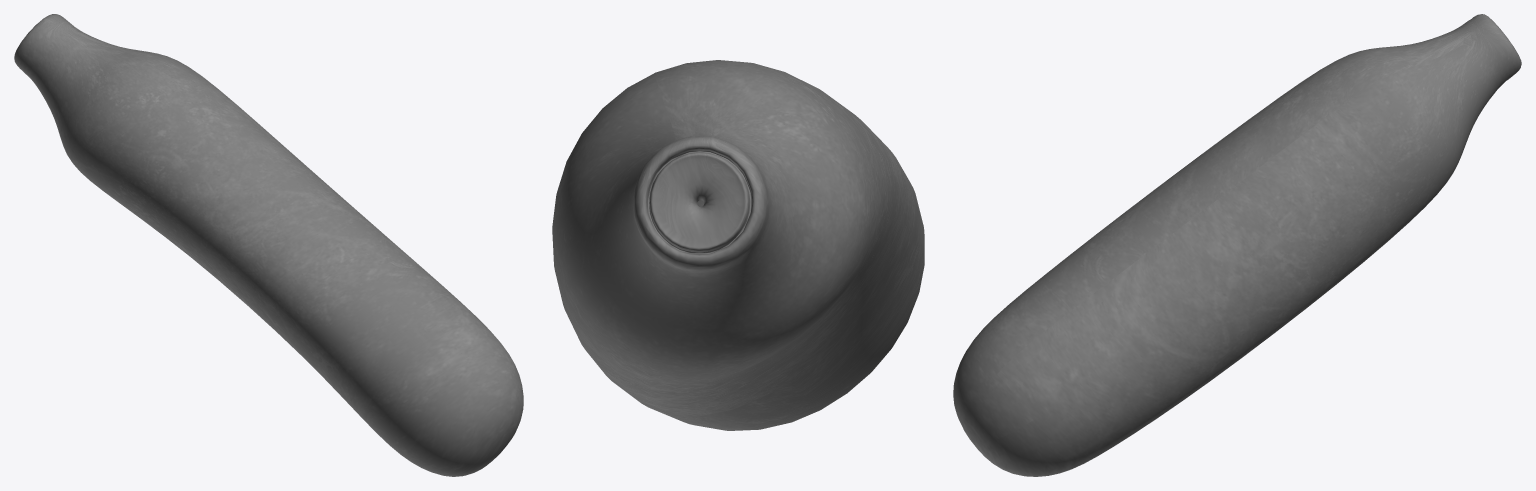
File: GAS9a.gltf
The picture shows the model from 3 angles, left to right: view 1: azimuth 30°, elevation 25°; view 2: azimuth 150°, elevation 25°; view 3: azimuth 270°, elevation 25°; orthographic projection. The views are drawn at different scales.
Visible parts, largest first — view 1: BezierCurve.003_BezierCurve.004; view 2: BezierCurve.003_BezierCurve.004; view 3: BezierCurve.003_BezierCurve.004.
Part boxes in pixels (left/top/right/bottom): BezierCurve.003_BezierCurve.004: left=14, top=14, right=523, bottom=476; BezierCurve.003_BezierCurve.004: left=552, top=60, right=924, bottom=430; BezierCurve.003_BezierCurve.004: left=953, top=14, right=1521, bottom=476.
Size of the model in its own units: 1.42 by 1.64 by 2.37.
Materials: 1 (1 with a texture image).
